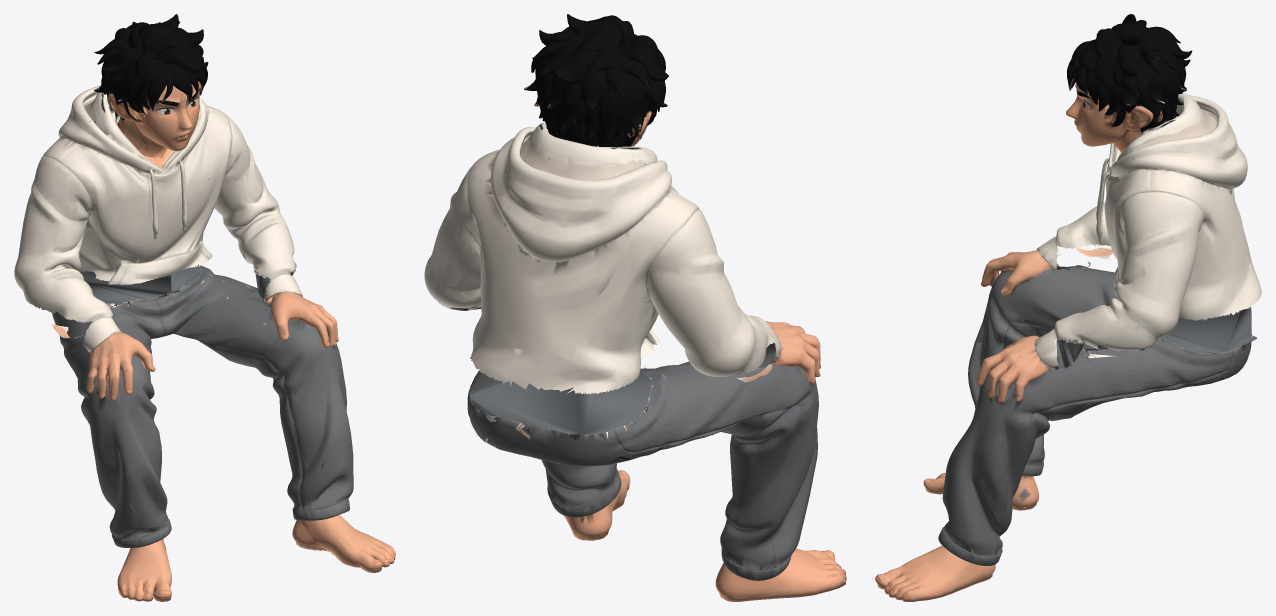
File: tv-seat-v4.glb
3 views of the same model, side by side, from view 1: azimuth 30°, elevation 25°; view 2: azimuth 150°, elevation 25°; view 3: azimuth 270°, elevation 25° (orthographic). The views are drawn at different scales.
Visible parts, largest first — view 1: CH_TVResident; view 2: CH_TVResident; view 3: CH_TVResident.
Part boxes in pixels (bbox=[...]): CH_TVResident: bbox=[14, 14, 395, 601]; CH_TVResident: bbox=[424, 14, 846, 601]; CH_TVResident: bbox=[875, 14, 1261, 601].
Size of the model in its own units: 0.6675 by 1.19 by 0.8115.
2 materials, 1 textured.
